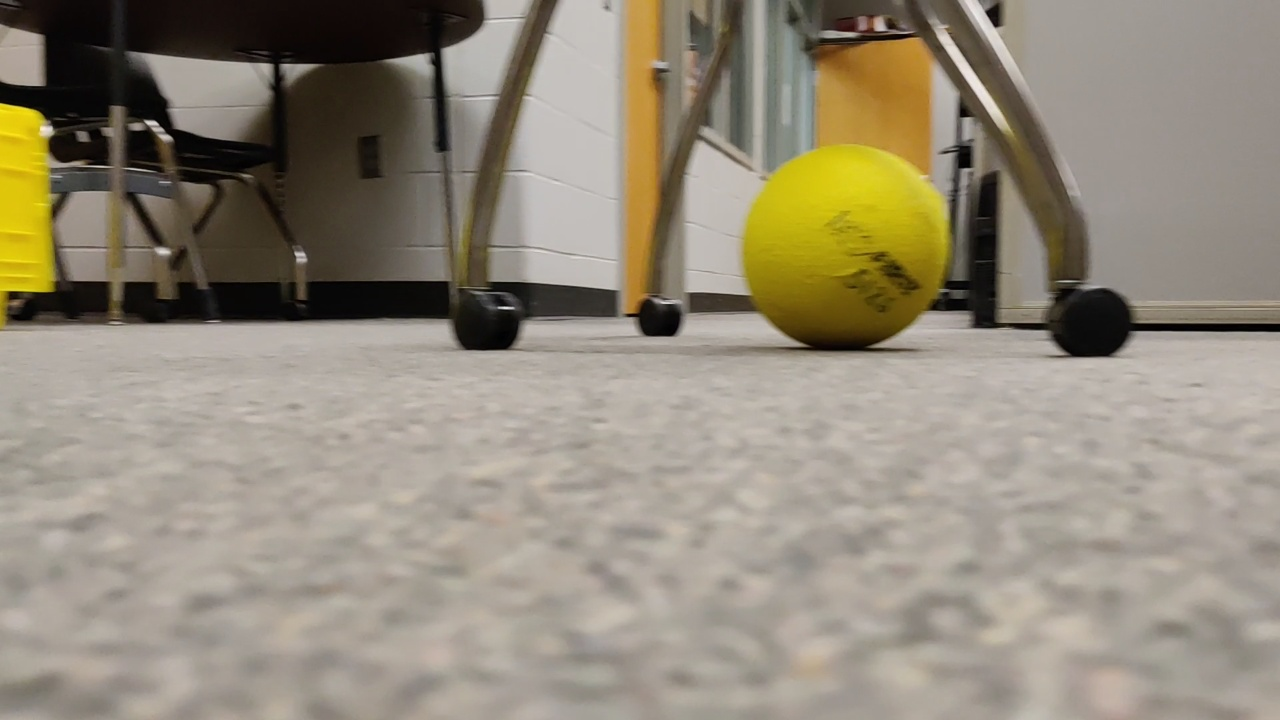Ball: (734, 145, 949, 354)
